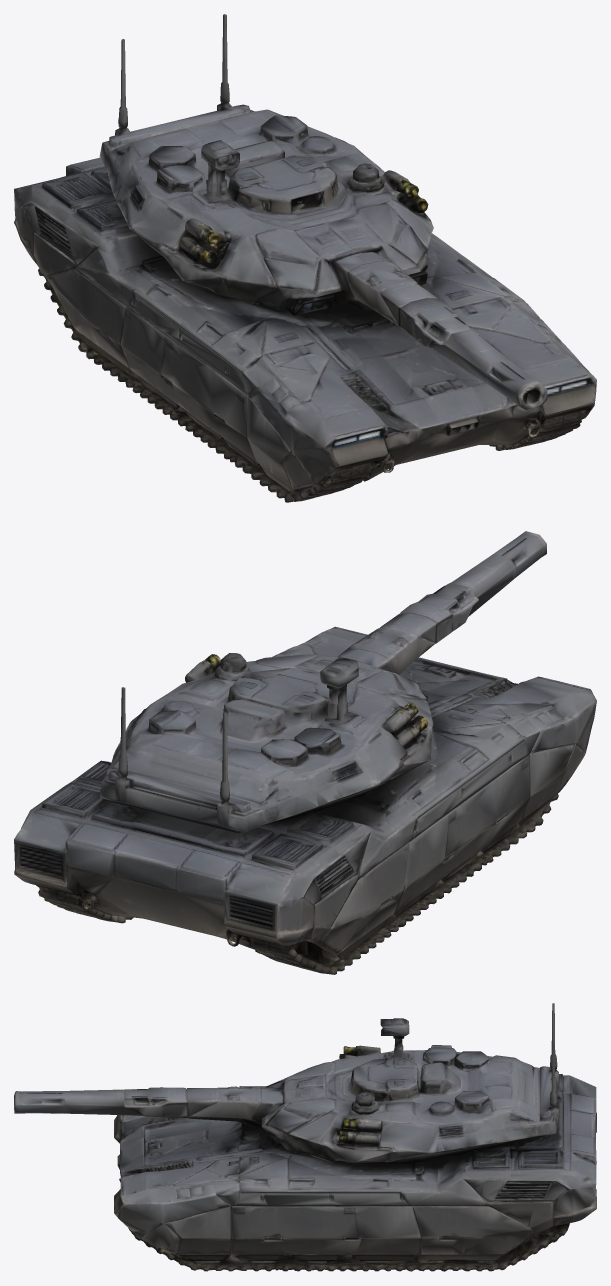
The model's file is tank_future.glb.
3 views of the same model, one above another, from view 1: azimuth 30°, elevation 25°; view 2: azimuth 150°, elevation 25°; view 3: azimuth 270°, elevation 25° (orthographic). The views are drawn at different scales.
Visible parts, largest first — view 1: node_0; view 2: node_0; view 3: node_0.
Boxes of the visible parts, <box> form: node_0: <box>14,14,596,502</box>; node_0: <box>14,531,596,974</box>; node_0: <box>14,1003,596,1271</box>.
Bounding box in the file's own units: 0.47 × 0.4265 × 1.11.
1 material, 1 textured.
